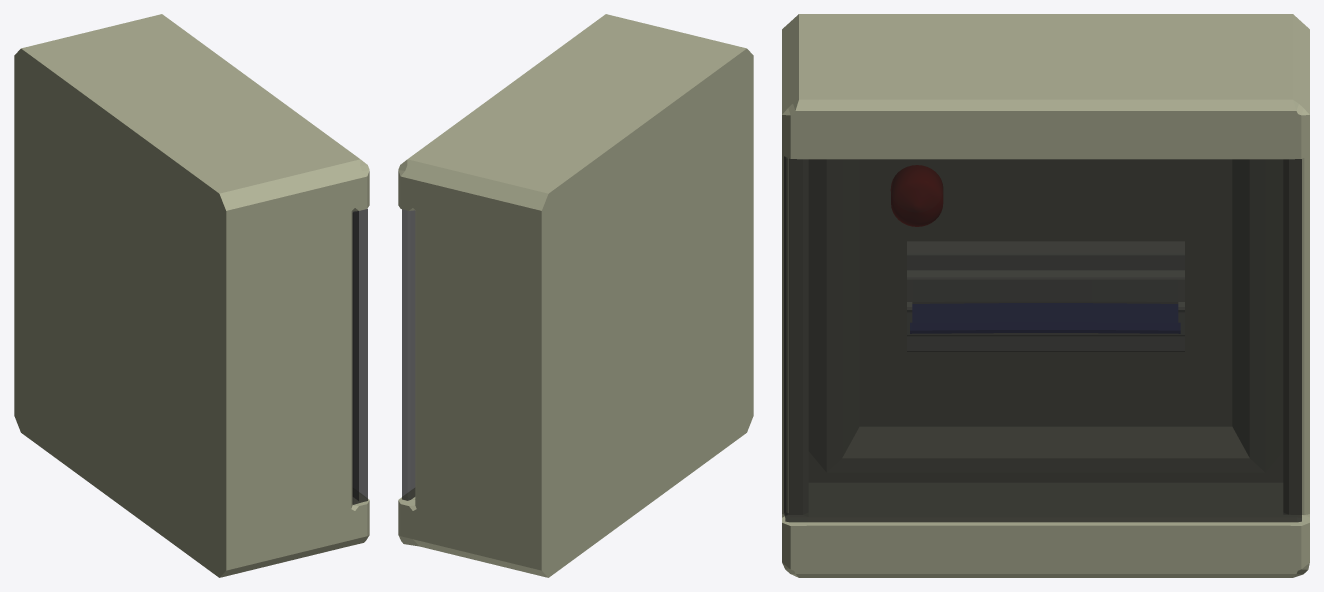
Rendered from Termica_Babitas.fbx.
The picture shows the model from 3 angles, left to right: view 1: azimuth 30°, elevation 25°; view 2: azimuth 150°, elevation 25°; view 3: azimuth 270°, elevation 25°; orthographic projection. The views are drawn at different scales.
Visible parts, largest first — view 1: Caja, Visor; view 2: Caja, Visor; view 3: Caja, Visor, TermicaSinPalanca, Palanca, OjodeBuey.
Part boxes in pixels (<box>): Caja: <box>14,14,369,577</box>; Visor: <box>352,209,367,504</box>; Caja: <box>398,14,753,577</box>; Visor: <box>402,209,415,500</box>; Caja: <box>782,14,1309,577</box>; Visor: <box>784,156,1301,522</box>; TermicaSinPalanca: <box>907,241,1184,351</box>; Palanca: <box>910,303,1180,333</box>; OjodeBuey: <box>891,165,942,226</box>.
Size of the model in its own units: 80.05 by 200 by 200.
